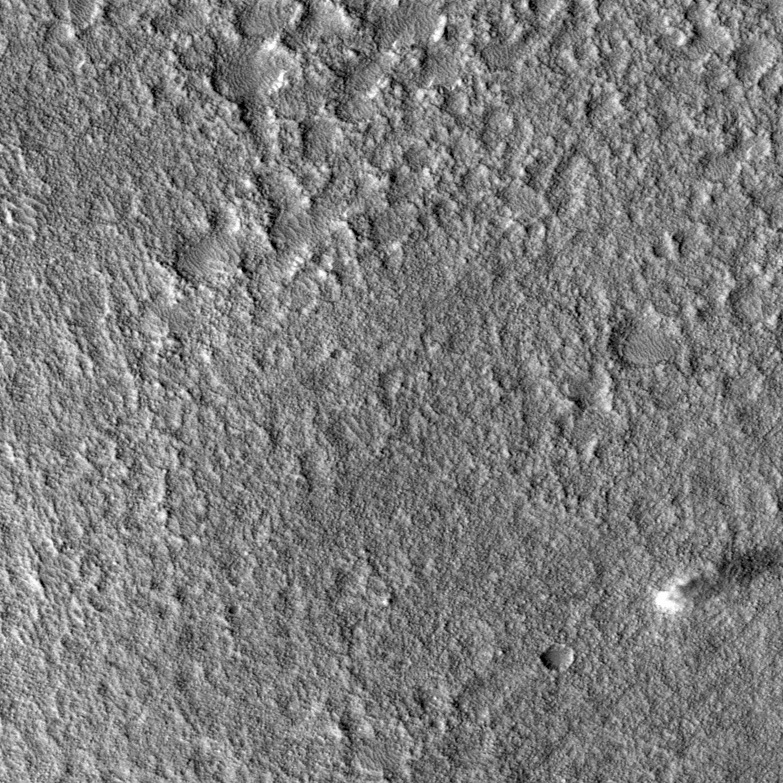dust_devil: (650, 543, 783, 619)
